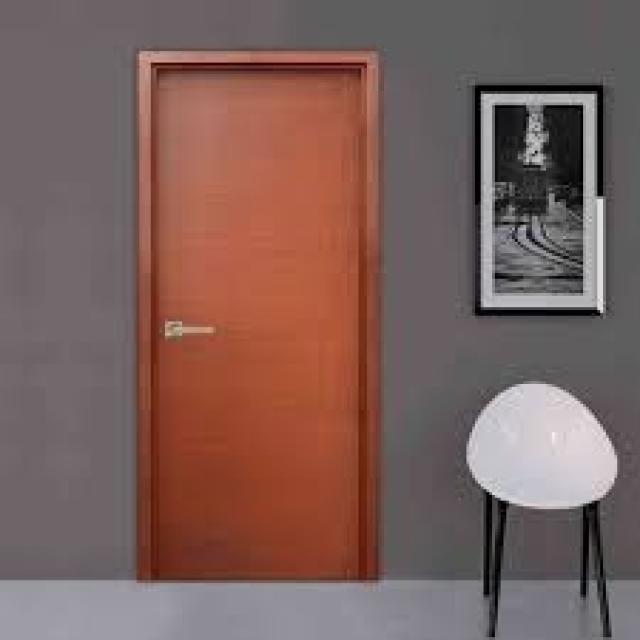door: (135, 49, 380, 582)
